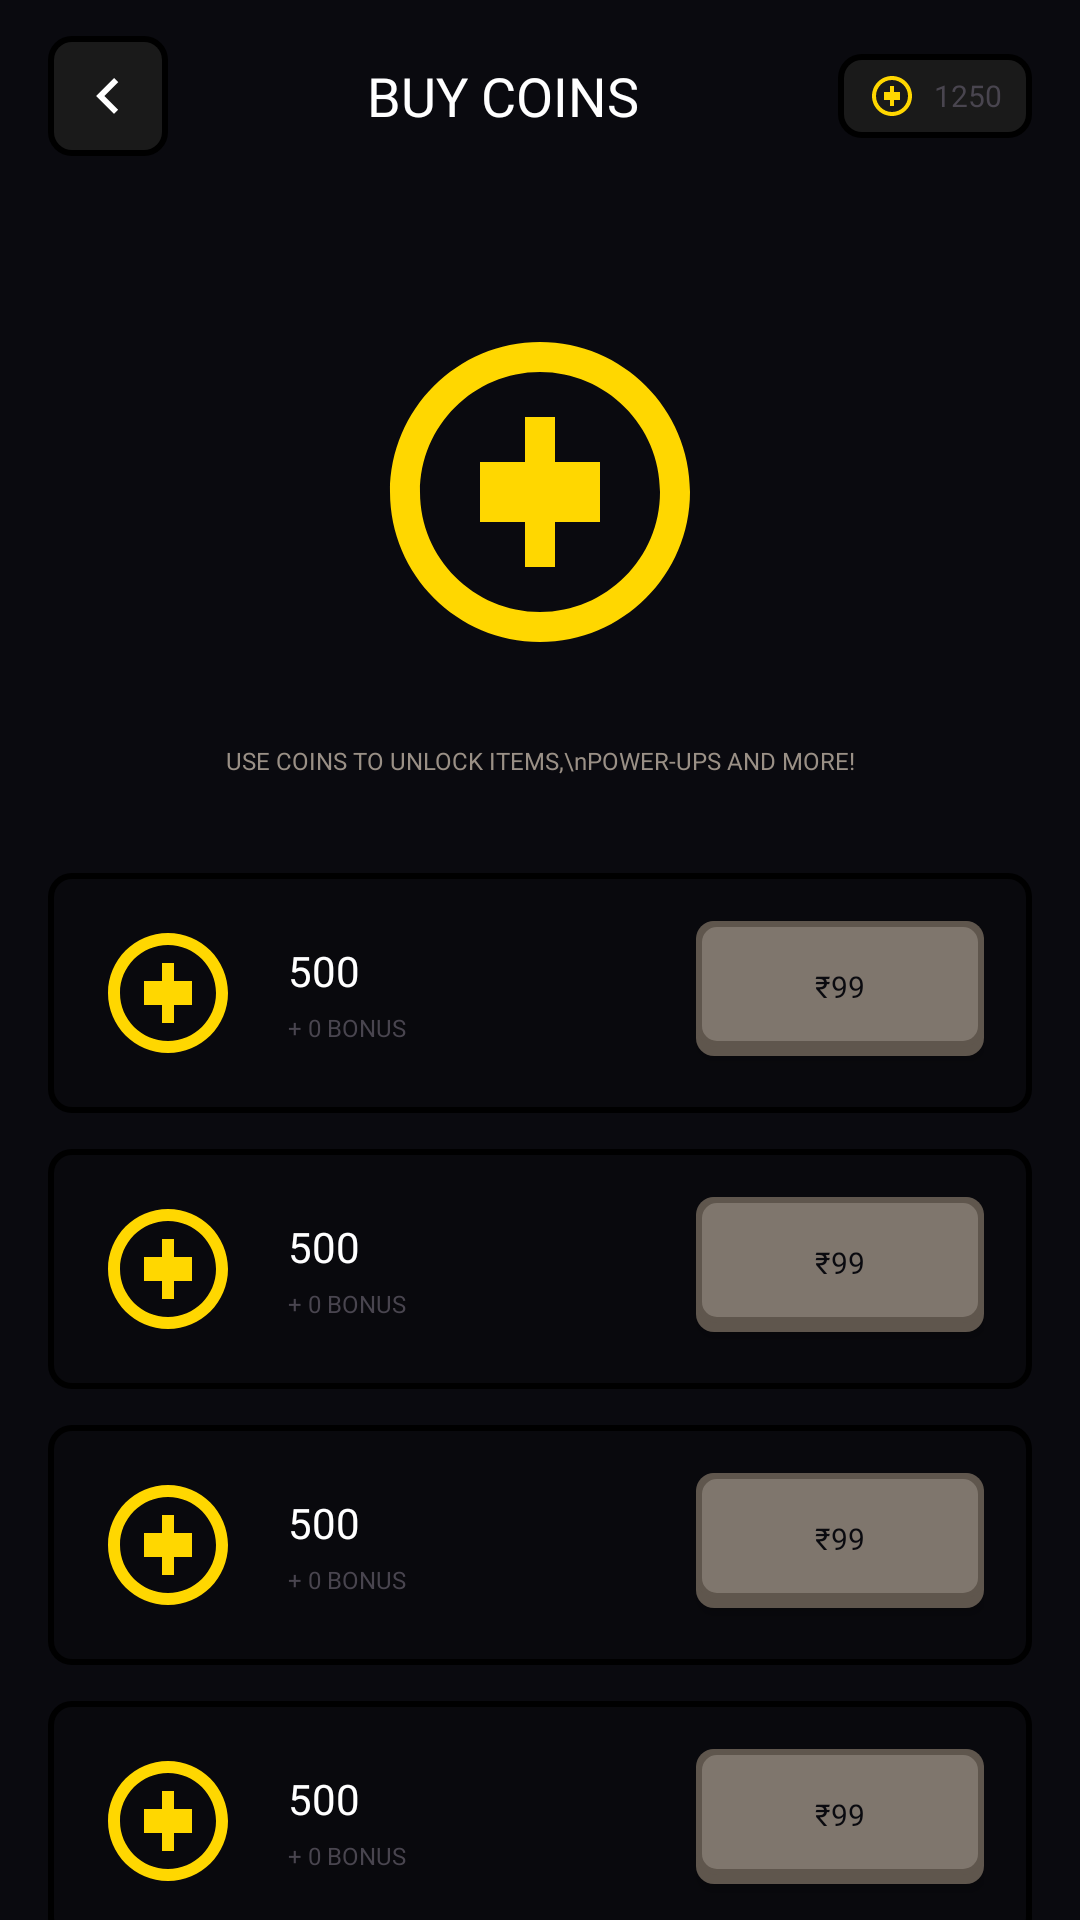

Screen size 1080×1920. Icon name, then its center in pixels as (x,y):
retro back: (108,96)
